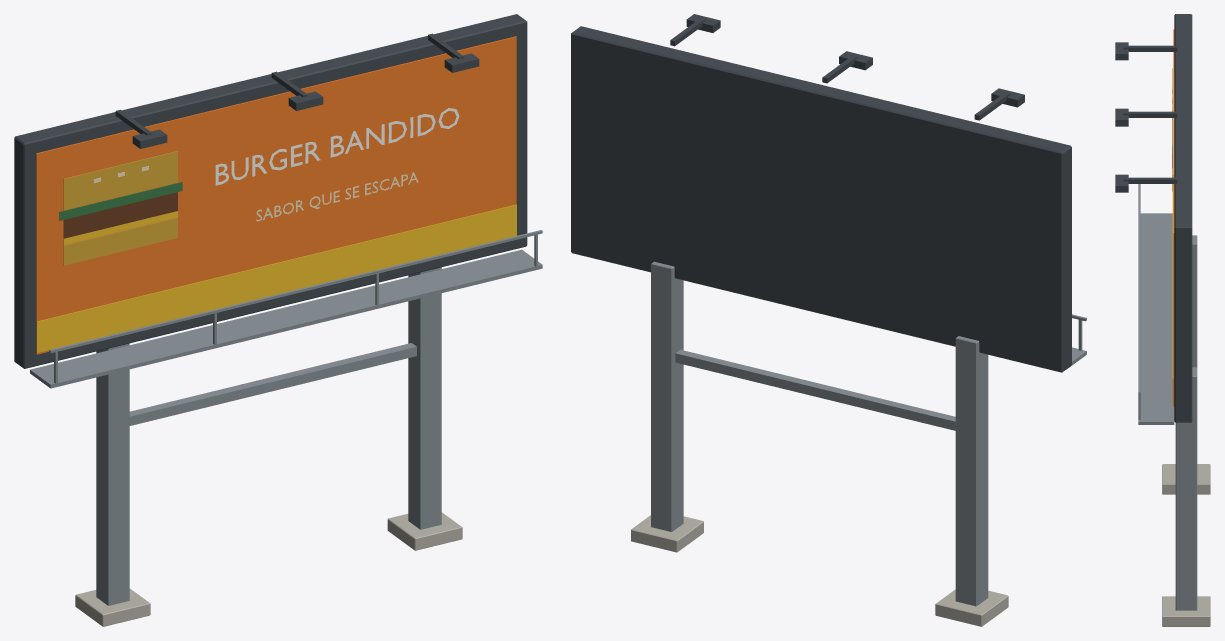
Rendered from Billboard_A.fbx.
3 views of the same model, side by side, from view 1: azimuth 30°, elevation 25°; view 2: azimuth 150°, elevation 25°; view 3: azimuth 270°, elevation 25° (orthographic). The views are drawn at different scales.
Visible parts, largest first — view 1: Billboard_A; view 2: Billboard_A; view 3: Billboard_A.
Part boxes in pixels (x1,y1,x2,y2): Billboard_A: [14, 14, 542, 626]; Billboard_A: [571, 14, 1086, 626]; Billboard_A: [1115, 14, 1210, 626].
Size of the model in its own units: 8.4 by 8.04 by 1.58.
